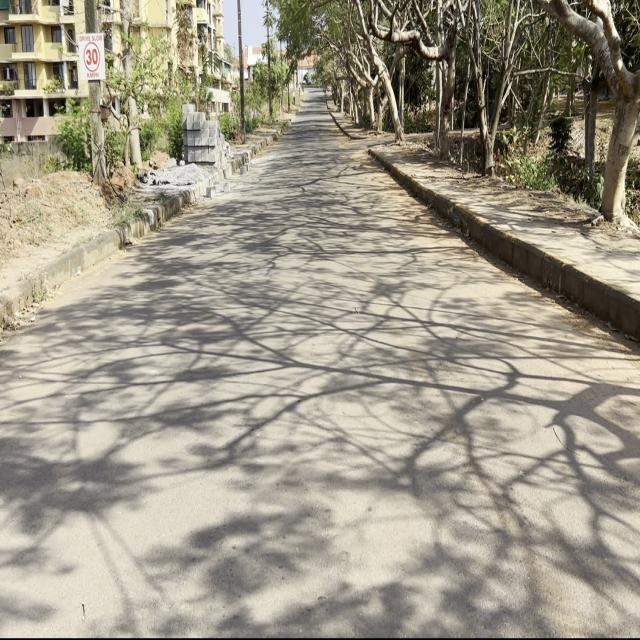Road: (0, 97, 640, 638)
